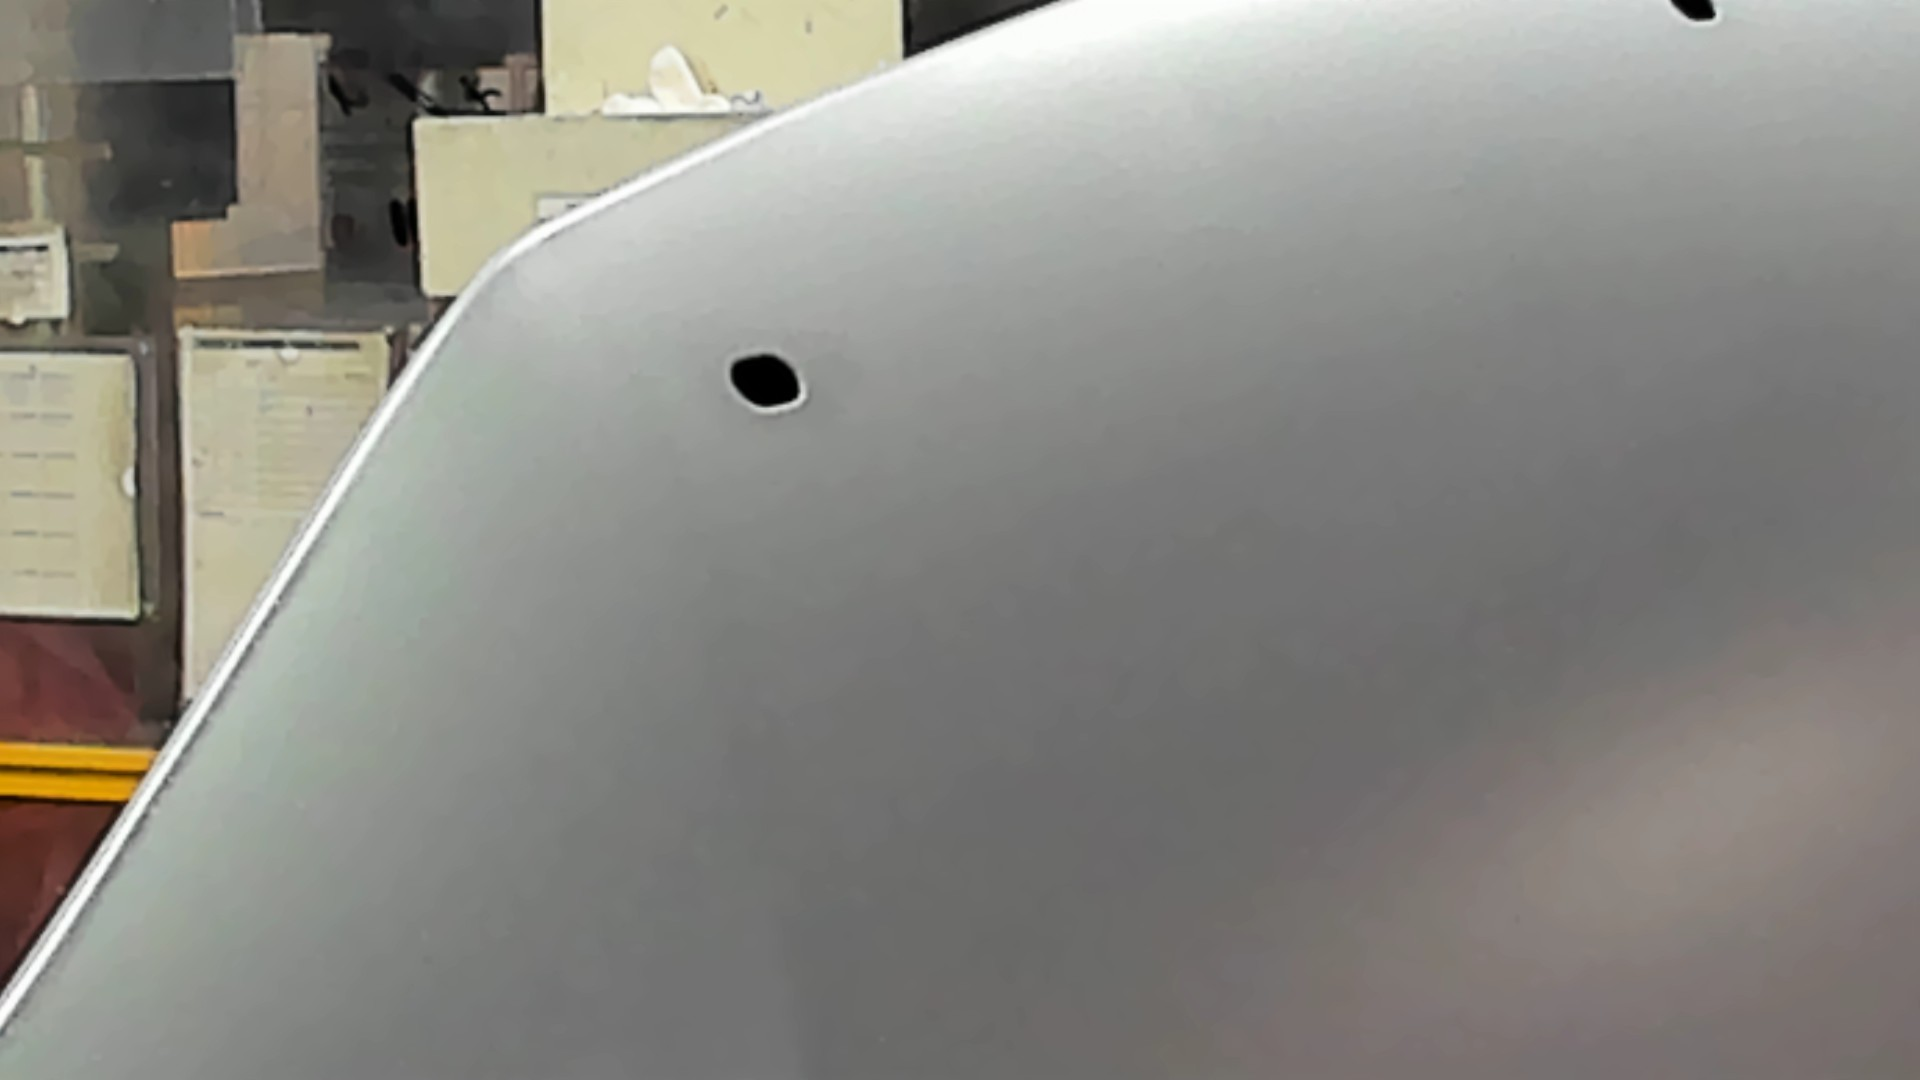amorfo: (723, 344, 808, 419), (1665, 1, 1730, 32)
